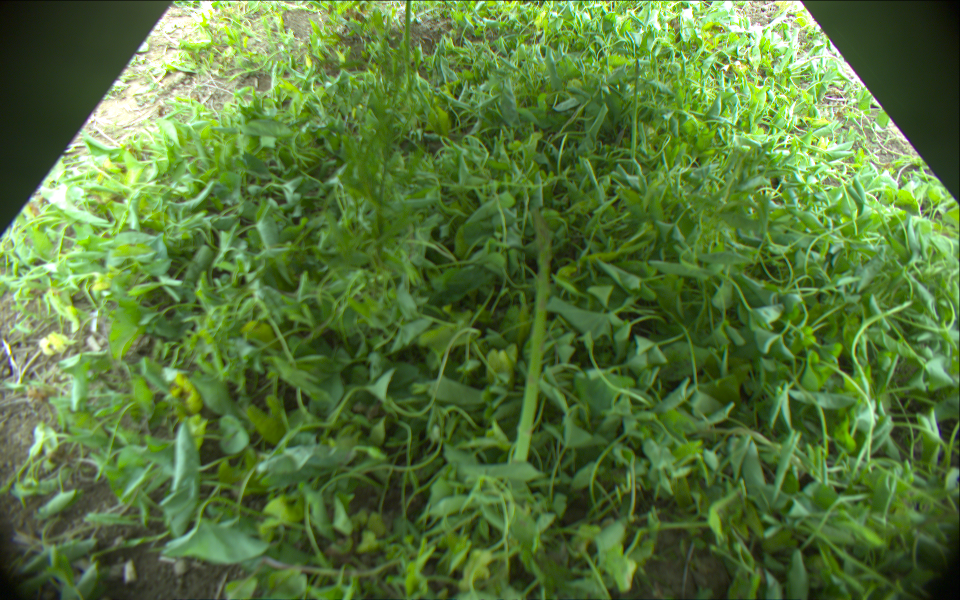aspa: (513, 207, 551, 465), (402, 1, 413, 73), (631, 57, 638, 156)
